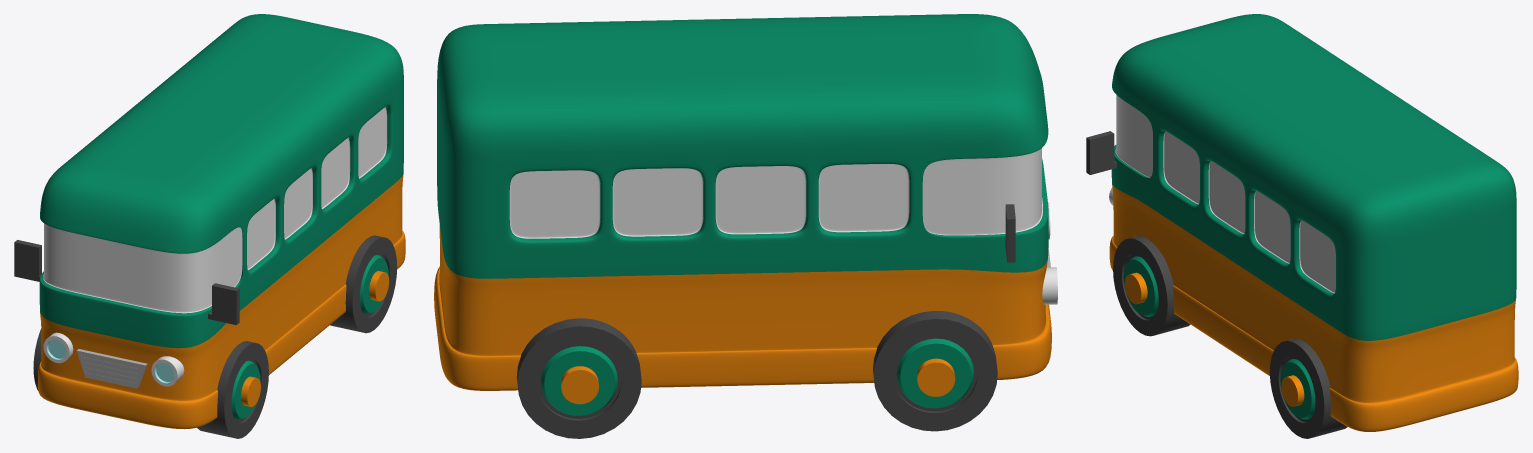
Rendered from tour_bus.glb.
3 views of the same model, side by side, from view 1: azimuth 30°, elevation 25°; view 2: azimuth 150°, elevation 25°; view 3: azimuth 270°, elevation 25° (orthographic). The views are drawn at different scales.
Parts seen in each view (by area): view 1: Cube.055, Cylinder.012, Cylinder.011, Cube.015, Cube.016, Cube.018, Cylinder.022, Cylinder.005; view 2: Cube.055, Cylinder.024, Cylinder.023, Cube.018; view 3: Cube.055, Cylinder.011, Cylinder.012, Cube.016.
Boxes of the visible parts, <box> form: Cube.055: <box>38,14,405,429</box>; Cylinder.012: <box>197,341,268,438</box>; Cylinder.011: <box>330,235,397,333</box>; Cube.015: <box>76,349,147,388</box>; Cube.016: <box>208,283,239,325</box>; Cube.018: <box>14,240,41,281</box>; Cylinder.022: <box>151,356,184,386</box>; Cylinder.005: <box>43,332,73,363</box>; Cube.055: <box>434,14,1051,390</box>; Cylinder.024: <box>873,311,997,431</box>; Cylinder.023: <box>516,318,641,438</box>; Cube.018: <box>1005,204,1015,262</box>; Cube.055: <box>1109,14,1518,431</box>; Cylinder.011: <box>1269,338,1347,438</box>; Cylinder.012: <box>1113,236,1190,336</box>; Cube.016: <box>1086,131,1116,174</box>.
Size of the model in its own units: 10.16 by 5.83 by 8.75.
